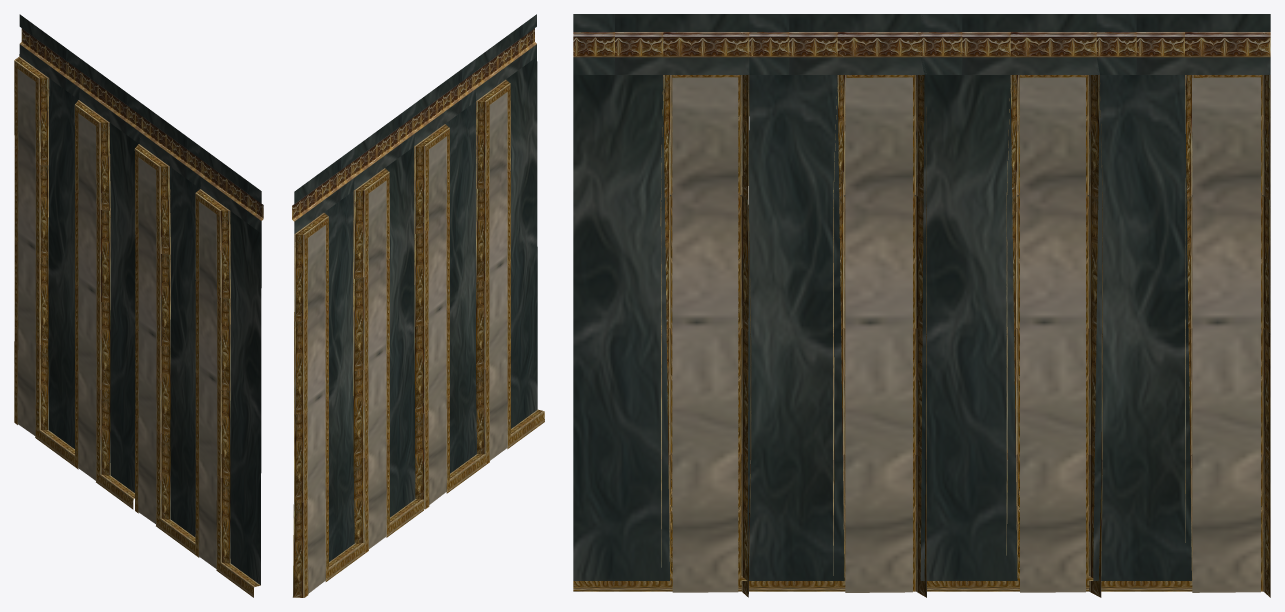
File: S_Build_City155.FBX
The picture shows the model from 3 angles, left to right: view 1: azimuth 30°, elevation 25°; view 2: azimuth 150°, elevation 25°; view 3: azimuth 270°, elevation 25°; orthographic projection. The views are drawn at different scales.
Parts seen in each view (by area): view 1: S_Build_City155; view 2: S_Build_City155; view 3: S_Build_City155.
Part boxes in pixels (bbox=[...]): S_Build_City155: bbox=[14, 14, 263, 597]; S_Build_City155: bbox=[292, 14, 544, 597]; S_Build_City155: bbox=[573, 14, 1270, 597].
Bounding box in the file's own units: 67.6 × 2618 × 2838.
